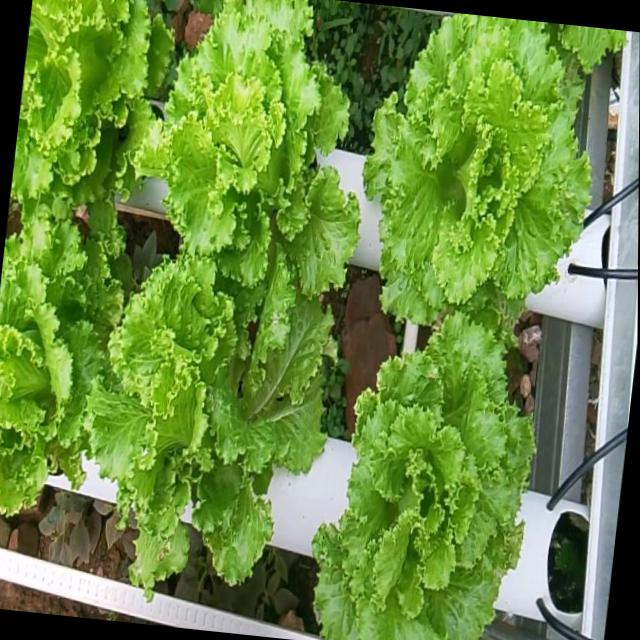Mature: (80, 256, 329, 595), (356, 12, 612, 322), (308, 307, 531, 640), (137, 0, 353, 314), (8, 0, 162, 228), (0, 228, 113, 526)
